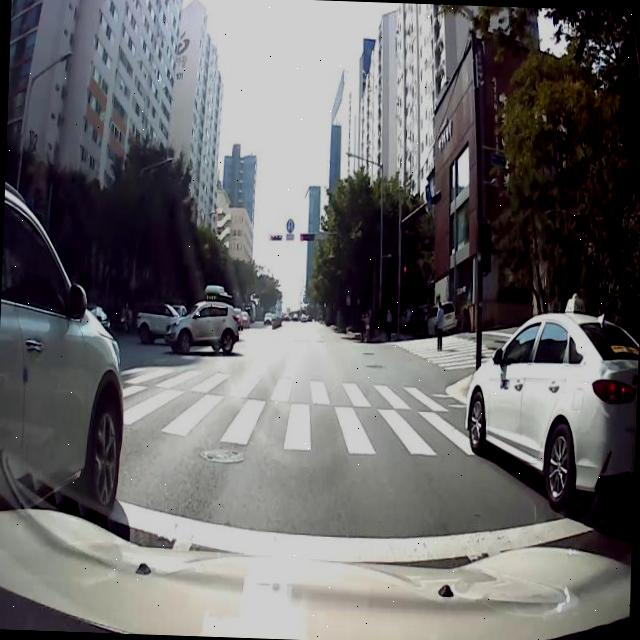crosswalk: (120, 361, 483, 456), (389, 334, 499, 372)
